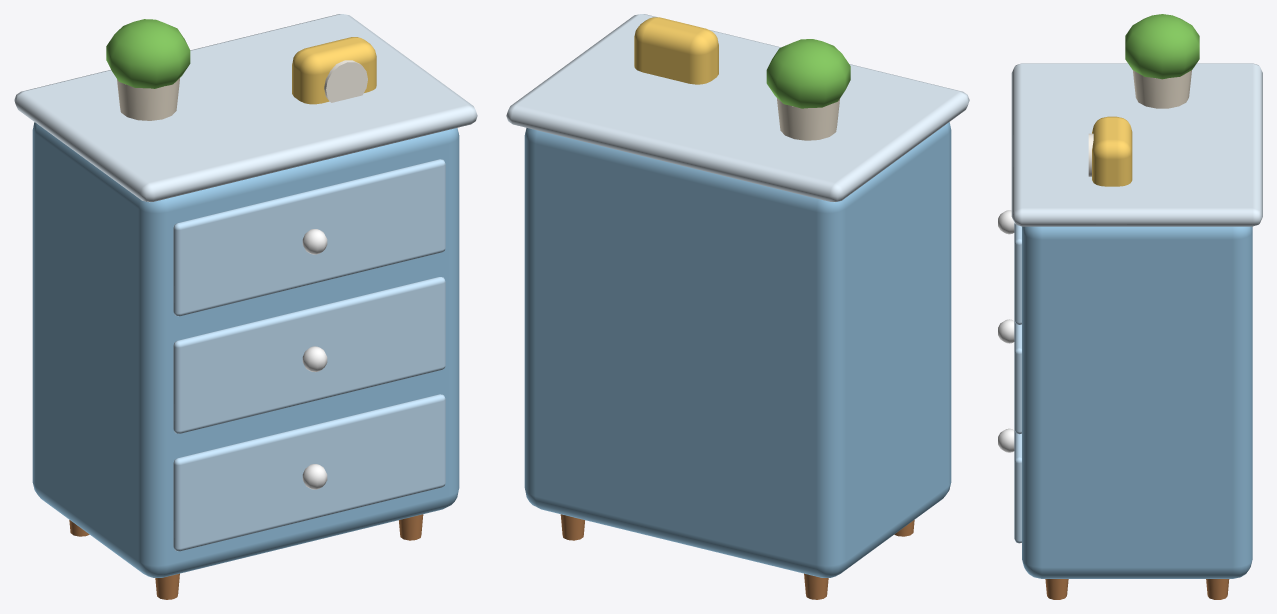
Rendered from bedside-drawers.glb.
3 renders of one model, left to right at view 1: azimuth 30°, elevation 25°; view 2: azimuth 150°, elevation 25°; view 3: azimuth 270°, elevation 25°, orthographic. The views are drawn at different scales.
Bounding box in the file's own units: 0.72 × 1.06 × 0.5273.
